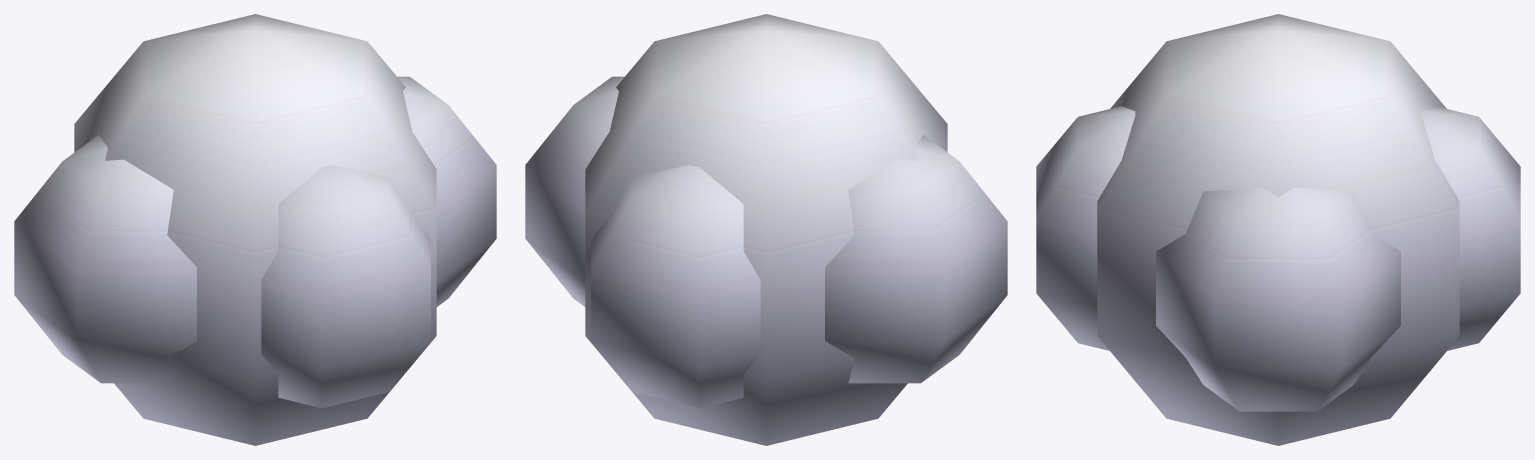
Rendered from smoke.glb.
3 views of the same model, side by side, from view 1: azimuth 30°, elevation 25°; view 2: azimuth 150°, elevation 25°; view 3: azimuth 270°, elevation 25° (orthographic).
Visible parts, largest first — view 1: smoke; view 2: smoke; view 3: smoke.
Part boxes in pixels (bbox=[...]): smoke: bbox=[14, 14, 496, 445]; smoke: bbox=[525, 14, 1007, 445]; smoke: bbox=[1036, 14, 1520, 445].
Bounding box in the file's own units: 0.3631 × 0.33 × 0.3631.
1 material, 1 textured.
